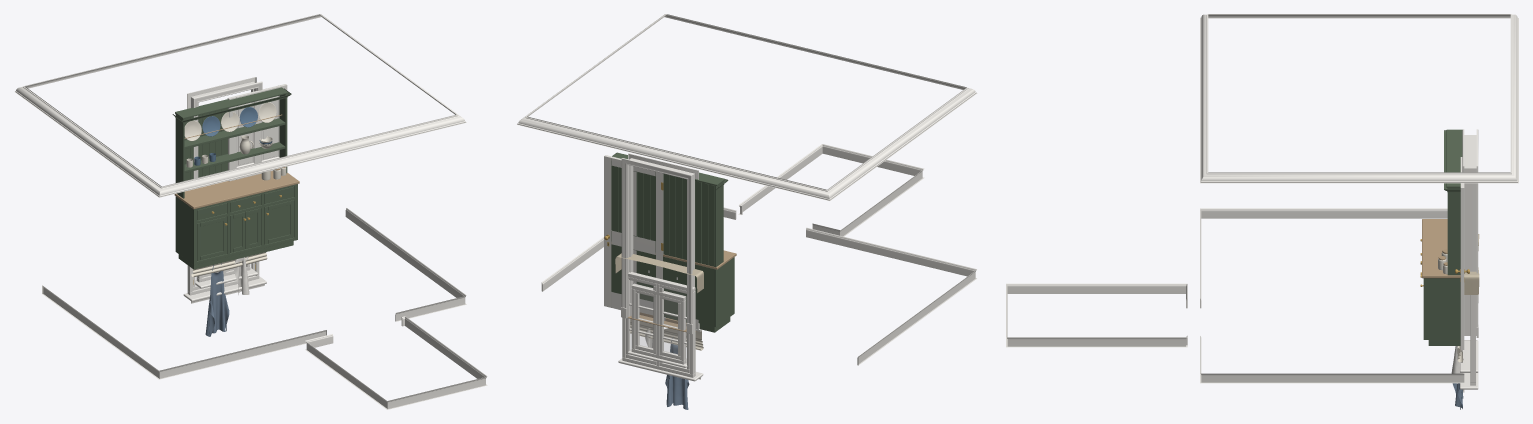
File: room_kit.gltf
3 views of the same model, side by side, from view 1: azimuth 30°, elevation 25°; view 2: azimuth 150°, elevation 25°; view 3: azimuth 270°, elevation 25° (orthographic). The views are drawn at different scales.
Visible parts, largest first — view 1: dresser, cornice, skirting, hall_trim, dresser_ware, door_leaf, door_frame, apron, window_side, blind_side, window_back; view 2: dresser, cornice, door_frame, window_side, skirting, door_leaf, window_back, hall_trim, apron, table_runner, blind_side; view 3: cornice, dresser, skirting, hall_trim, door_frame, door_leaf, window_side.
Part boxes in pixels (bbox=[...]): dresser: bbox=[172, 87, 299, 269]; cornice: bbox=[14, 14, 466, 197]; skirting: bbox=[42, 208, 466, 379]; hall_trim: bbox=[305, 316, 487, 409]; dresser_ware: bbox=[184, 102, 286, 180]; door_leaf: bbox=[227, 84, 287, 181]; door_frame: bbox=[187, 77, 262, 178]; apron: bbox=[205, 271, 229, 336]; window_side: bbox=[183, 261, 266, 303]; blind_side: bbox=[191, 252, 267, 277]; window_back: bbox=[195, 264, 257, 288]; dresser: bbox=[611, 152, 736, 332]; cornice: bbox=[517, 14, 977, 200]; door_frame: bbox=[621, 153, 699, 334]; window_side: bbox=[618, 272, 703, 381]; skirting: bbox=[541, 207, 976, 365]; door_leaf: bbox=[604, 155, 663, 315]; window_back: bbox=[627, 283, 687, 367]; hall_trim: bbox=[738, 144, 924, 236]; apron: bbox=[665, 344, 689, 409]; table_runner: bbox=[615, 253, 703, 292]; blind_side: bbox=[630, 318, 703, 350]; cornice: bbox=[1200, 14, 1518, 183]; dresser: bbox=[1420, 129, 1462, 345]; skirting: bbox=[1200, 208, 1464, 383]; hall_trim: bbox=[1006, 283, 1187, 347]; door_frame: bbox=[1462, 129, 1478, 337]; door_leaf: bbox=[1455, 157, 1469, 349]; window_side: bbox=[1460, 295, 1478, 392].
Bounding box in the file's own units: 4.44 × 3.76 × 5.82.
